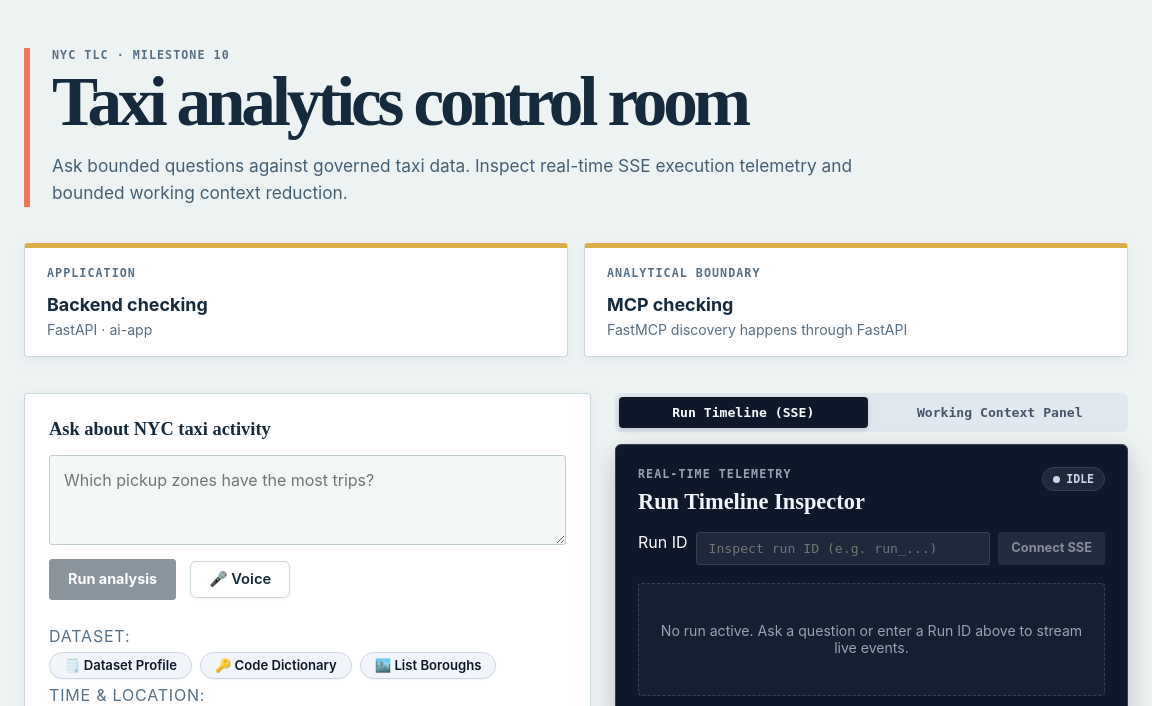
Test case: Voice Input UI Integration › handles microphone permission rejection gracefully
Click the button with aria-label "Start voice input" at (240,580), box [190,561,290,598]
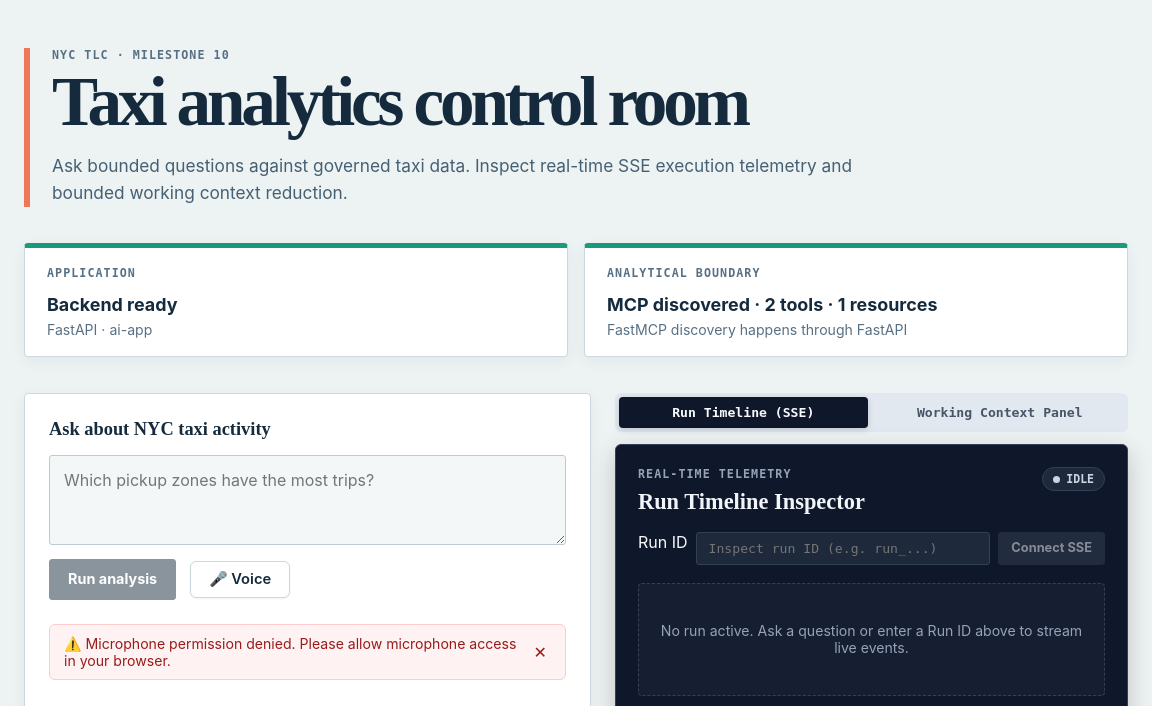
Expected: the text "Microphone permission denied. Please allow microphone access" is shown, [64,635,516,669]
Dismiss error
Click the button named "Dismiss voice error" at (540,652), box [530,644,551,660]
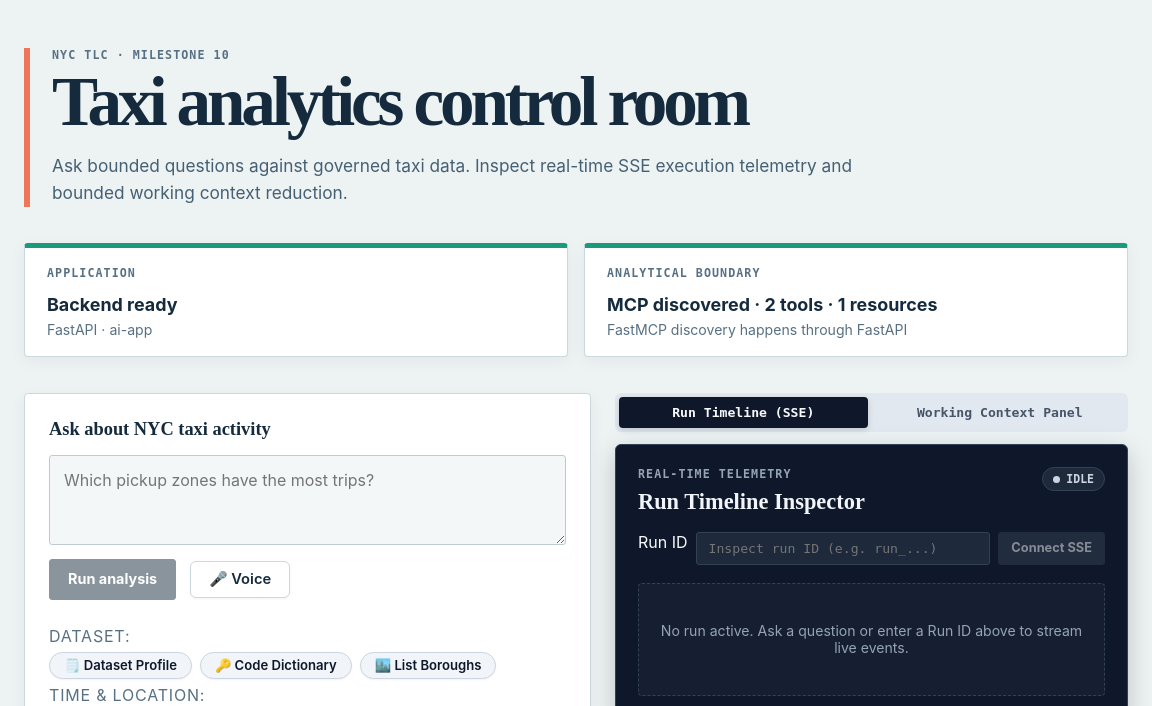
Expected: the text "Microphone permission denied. Please allow microphone access" is gone
